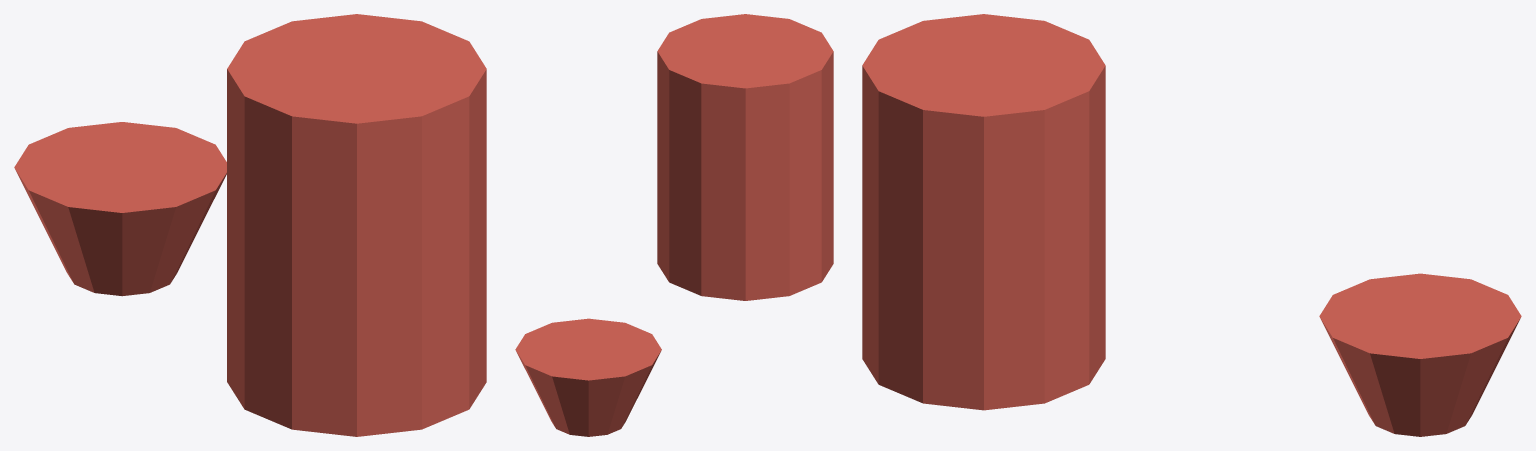
Rendered from PotionLiquid.fbx.
3 views of the same model, side by side, from view 1: azimuth 30°, elevation 25°; view 2: azimuth 150°, elevation 25°; view 3: azimuth 270°, elevation 25° (orthographic). The views are drawn at different scales.
Visible parts, largest first — view 1: polySurface3302; view 2: polySurface3302; view 3: polySurface3302.
Part boxes in pixels (bbox=[...]): polySurface3302: bbox=[14, 14, 486, 436]; polySurface3302: bbox=[515, 14, 833, 436]; polySurface3302: bbox=[862, 14, 1521, 436].
Size of the model in its own units: 0.638 by 1.01 by 1.73.
